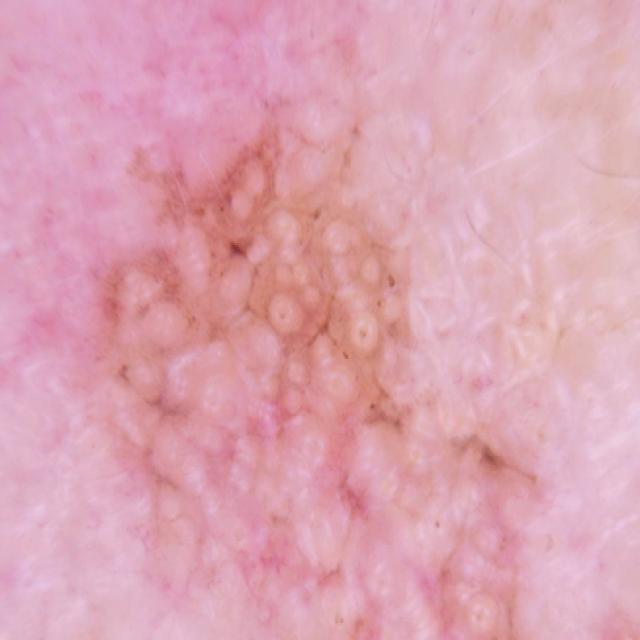Keratosis: (101, 114, 552, 640)
